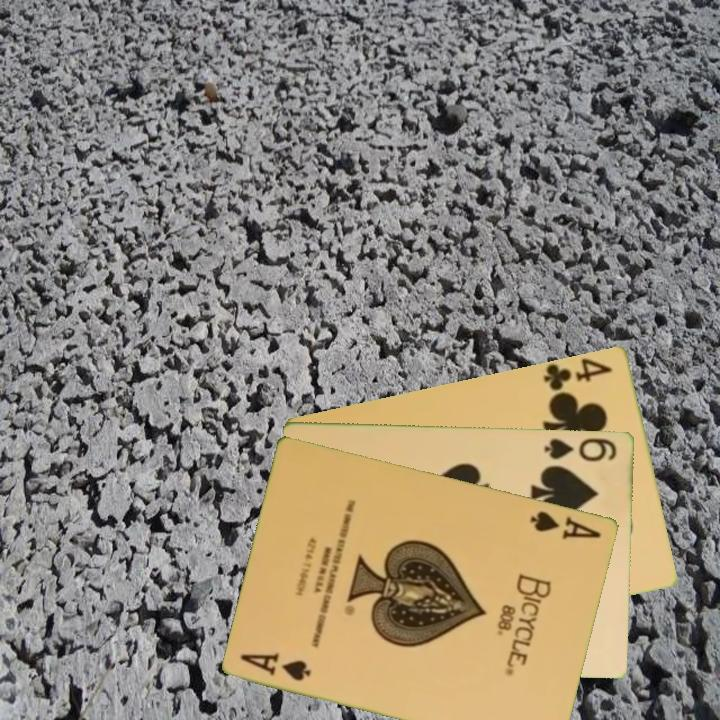4c: (539, 354, 616, 394)
6s: (541, 434, 620, 464)
As: (527, 506, 604, 543), (237, 649, 315, 684)
